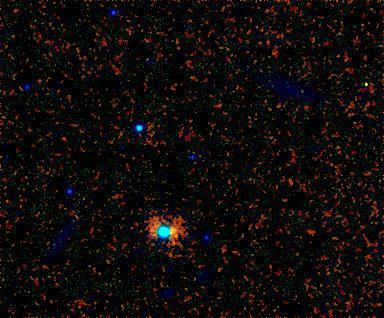star: (159, 214, 189, 244)
